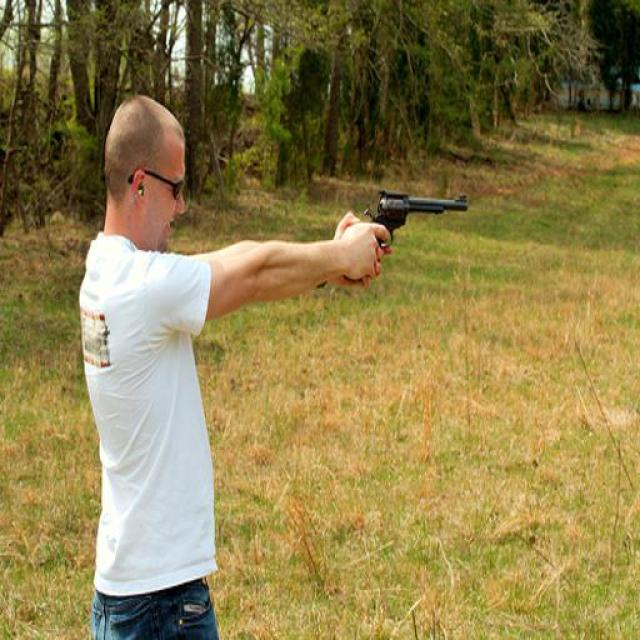pistol: (360, 187, 469, 251)
